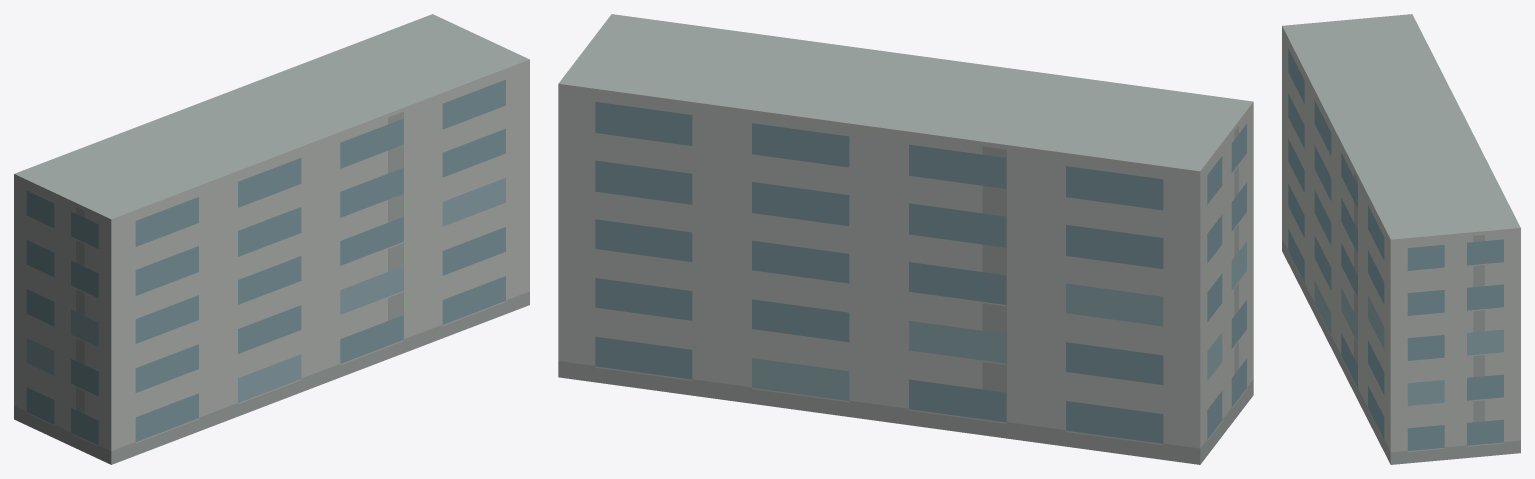
The model's file is residential-d8ad11ba-9eb3-4c32-ba32-925267b6cca3.glb.
3 renders of one model, left to right at view 1: azimuth 30°, elevation 25°; view 2: azimuth 150°, elevation 25°; view 3: azimuth 270°, elevation 25°, orthographic. The views are drawn at different scales.
Visible parts, largest first — view 1: residential-d8ad11ba-9eb3-4c32-ba32-925267b6cca3.tmp; view 2: residential-d8ad11ba-9eb3-4c32-ba32-925267b6cca3.tmp; view 3: residential-d8ad11ba-9eb3-4c32-ba32-925267b6cca3.tmp.
Part boxes in pixels (bbox=[...]): residential-d8ad11ba-9eb3-4c32-ba32-925267b6cca3.tmp: bbox=[14, 14, 529, 464]; residential-d8ad11ba-9eb3-4c32-ba32-925267b6cca3.tmp: bbox=[558, 14, 1253, 464]; residential-d8ad11ba-9eb3-4c32-ba32-925267b6cca3.tmp: bbox=[1282, 14, 1520, 464].
Bounding box in the file's own units: 32.77 × 15.25 × 14.66.
